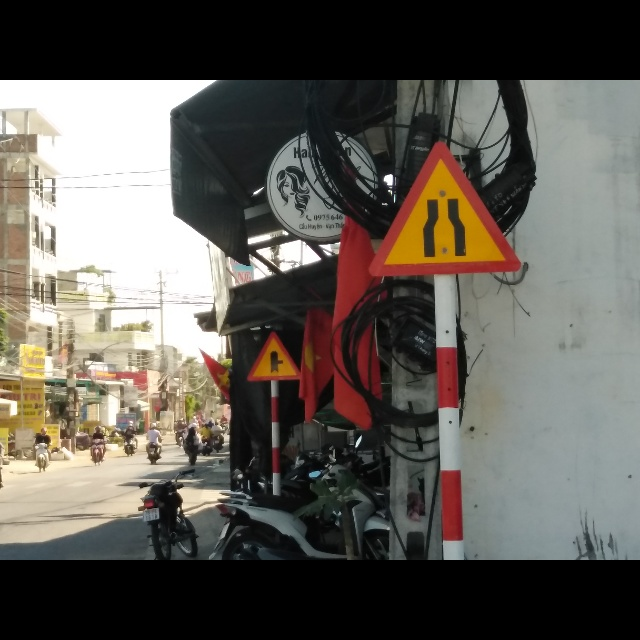Giao nhau với đường không ưu tiên: (246, 331, 305, 384)
Đường bị hẹp cả hai bên: (364, 141, 529, 278)
